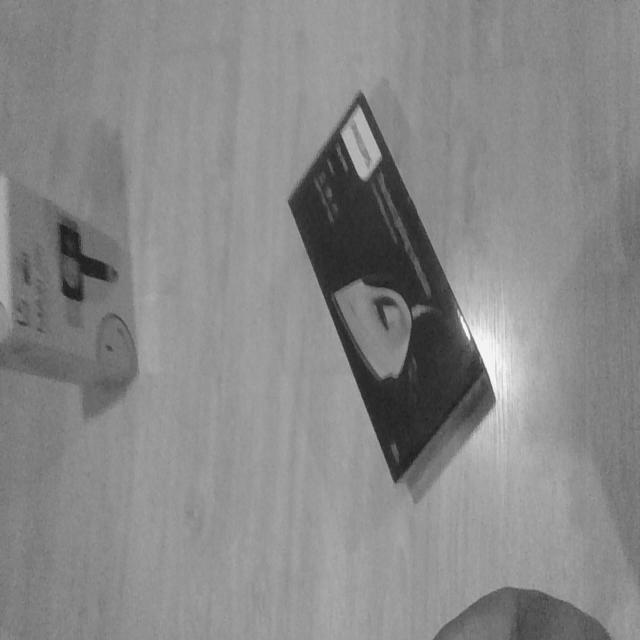IRON: (285, 88, 497, 492)
